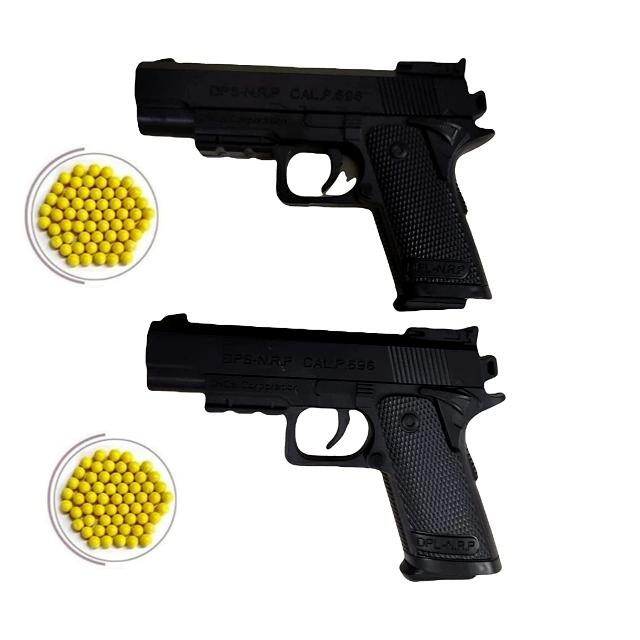pistol: (142, 316, 508, 578), (136, 47, 494, 305)
